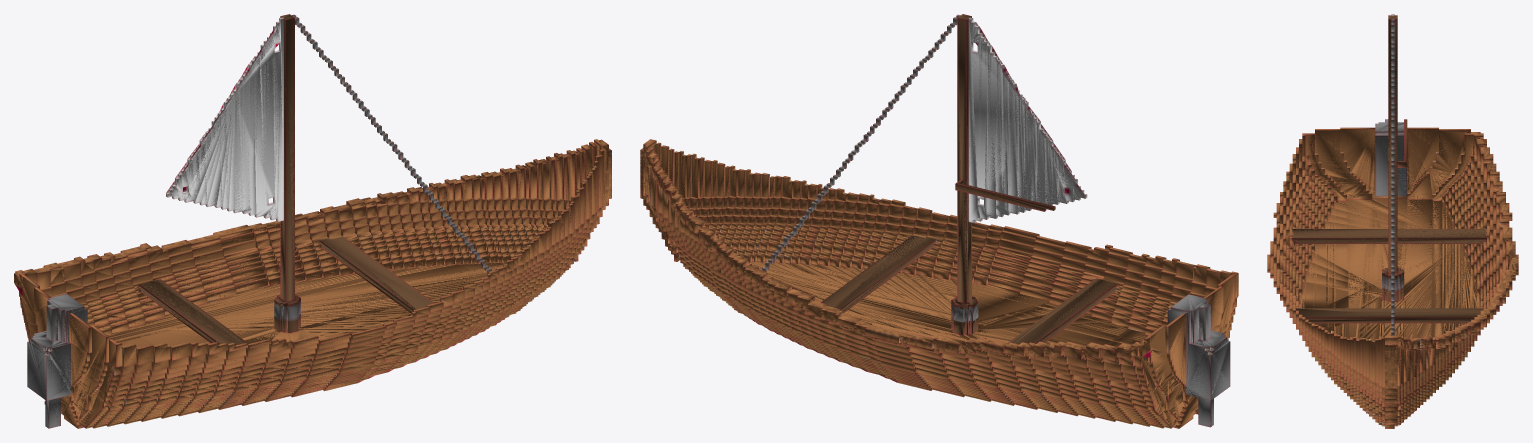
3 renders of one model, left to right at view 1: azimuth 30°, elevation 25°; view 2: azimuth 150°, elevation 25°; view 3: azimuth 270°, elevation 25°, orthographic. The views are drawn at different scales.
Parts seen in each view (by area): view 1: Untitled, Untitled_Backup; view 2: Untitled, Untitled_Backup; view 3: Untitled, Untitled_Backup.
Part boxes in pixels (left/top/right/bottom): Untitled: left=14, top=14, right=611, bottom=428; Untitled_Backup: left=14, top=14, right=611, bottom=428; Untitled: left=640, top=14, right=1238, bottom=428; Untitled_Backup: left=640, top=14, right=1238, bottom=428; Untitled: left=1267, top=14, right=1518, bottom=428; Untitled_Backup: left=1268, top=14, right=1518, bottom=427.
Bounding box in the file's own units: 1870 × 1090 × 790.
Materials: 2 (2 with a texture image).
